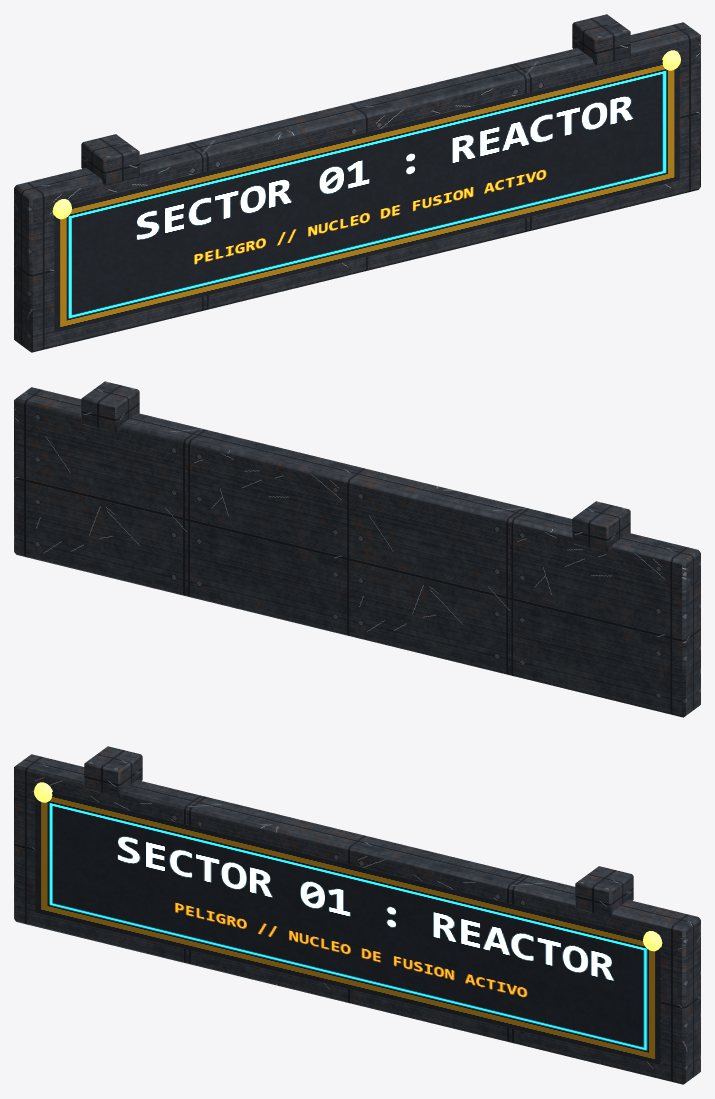
The model's file is sector_wall_sign_light.glb.
3 renders of one model, top to bottom at view 1: azimuth 30°, elevation 25°; view 2: azimuth 150°, elevation 25°; view 3: azimuth 330°, elevation 25°, orthographic.
Visible parts, largest first — view 1: letrero_reactor; view 2: letrero_reactor; view 3: letrero_reactor.
Part boxes in pixels (x1=…): letrero_reactor: x1=14, y1=14, x2=700, y2=352; letrero_reactor: x1=14, y1=381, x2=700, y2=717; letrero_reactor: x1=14, y1=746, x2=700, y2=1084.
Size of the model in its own units: 2.6 by 0.66 by 0.1788.
3 materials, 2 textured.
